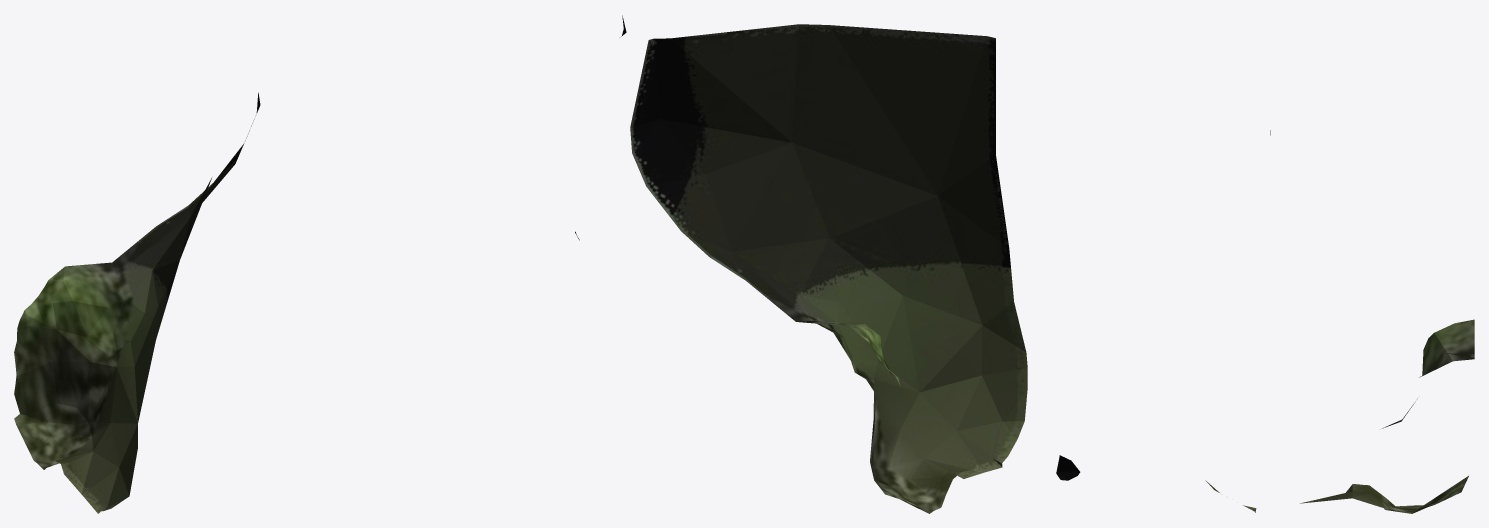
The picture shows the model from 3 angles, left to right: view 1: azimuth 30°, elevation 25°; view 2: azimuth 150°, elevation 25°; view 3: azimuth 270°, elevation 25°; orthographic projection. The views are drawn at different scales.
Bounding box in the file's own units: 5.9 × 5.26 × 4.
Materials: 2 (2 with a texture image).
